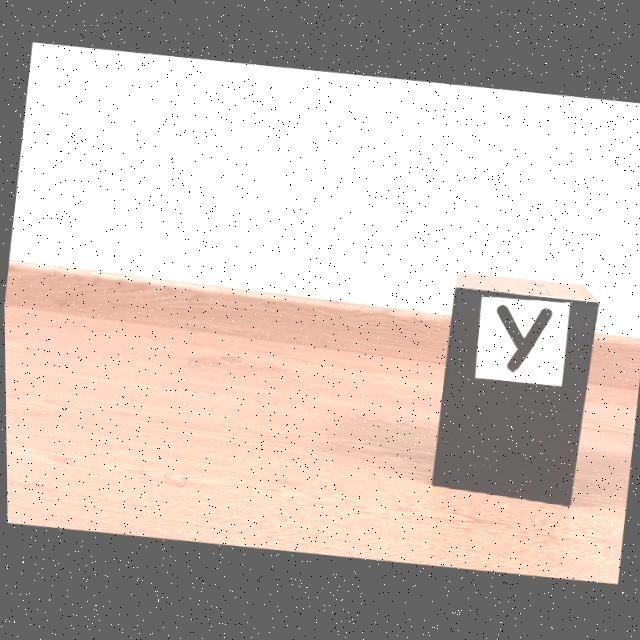Y: (496, 308, 552, 374)
